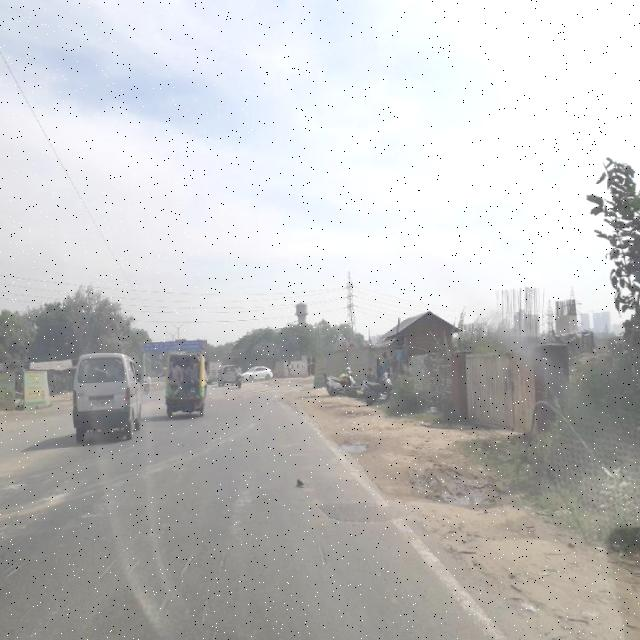D00: (100, 522, 142, 601), (200, 548, 241, 628), (156, 546, 197, 625), (1, 541, 42, 587), (308, 534, 338, 576)
